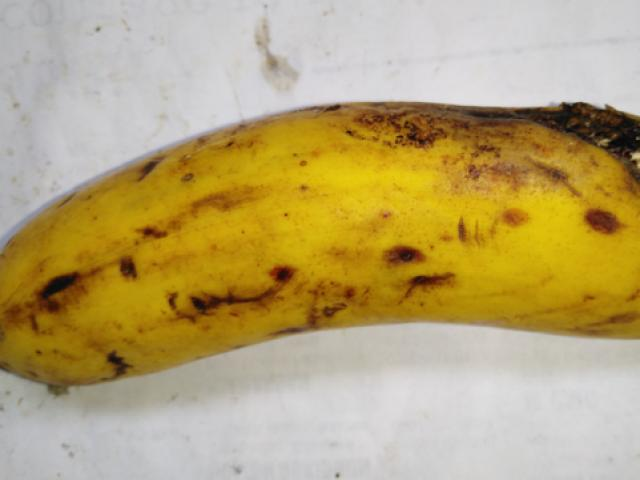ripe: (0, 87, 501, 404)
rotten: (423, 43, 639, 245)
